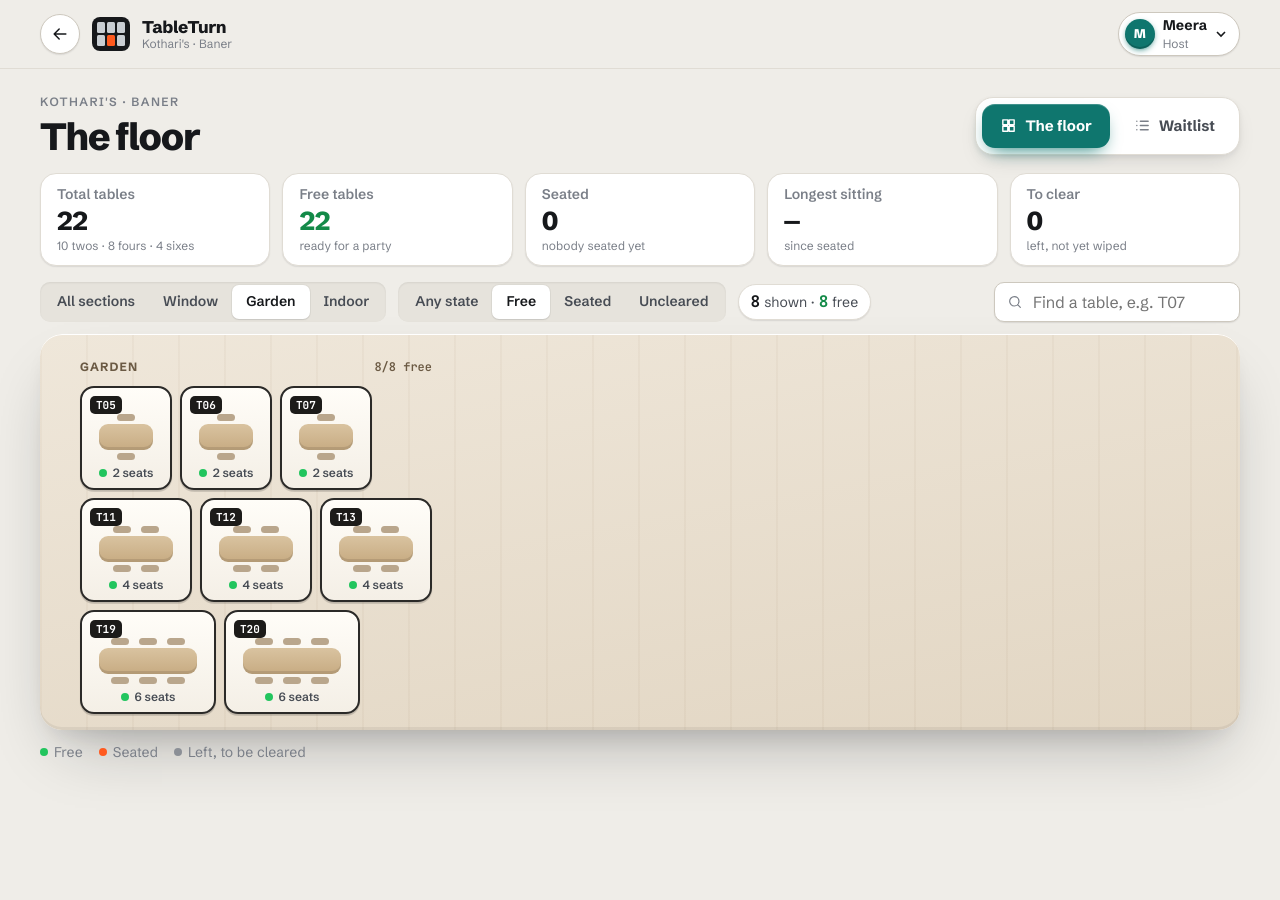
F-04 · Finding one table › "All sections" and "Any state" take their filter off the floor and the address, and the line counting what is shown goes
The image size is (1280, 900).
Click the button "All sections": (96, 302) [43,285,149,319]
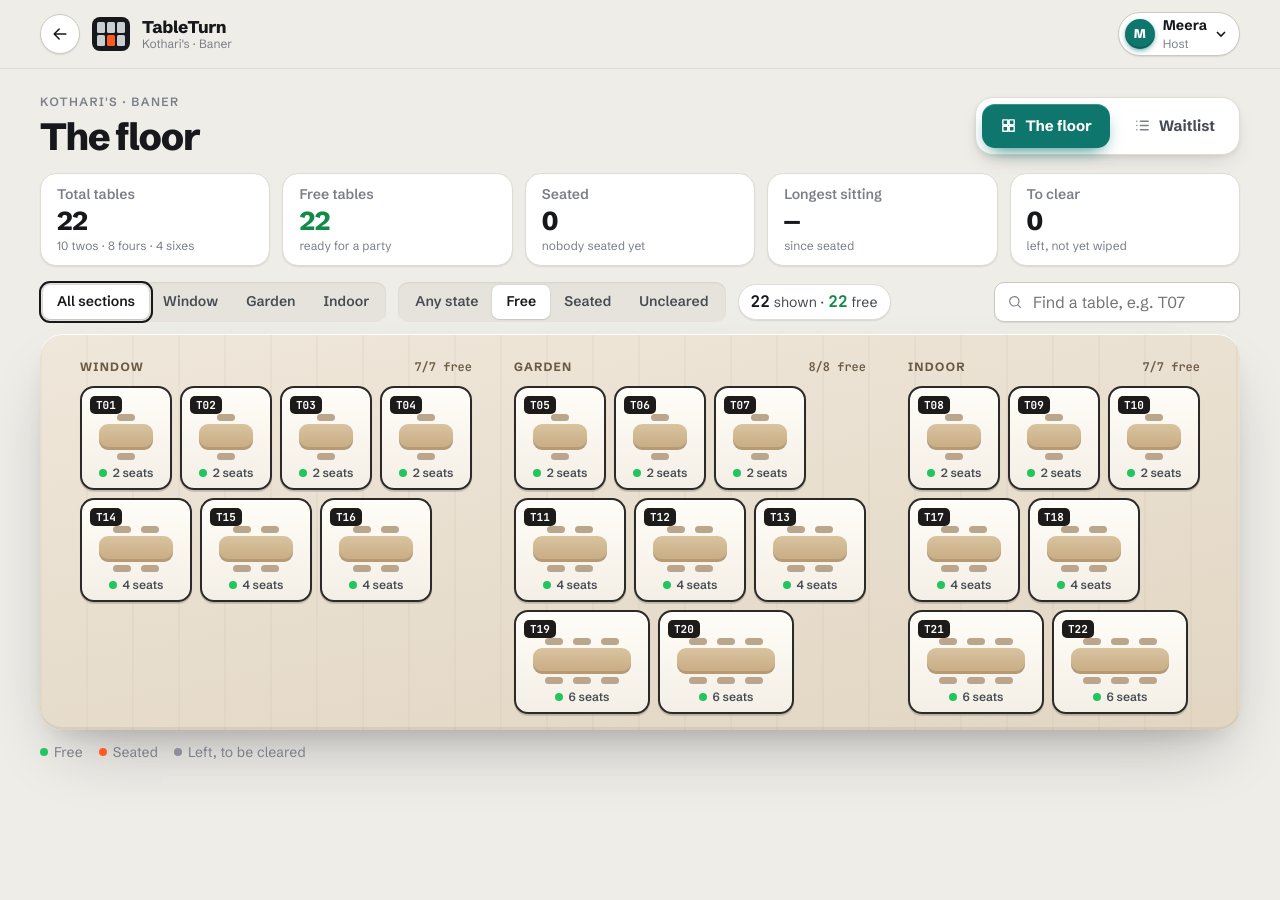
Click the button "Any state": (447, 302) [401,285,492,319]
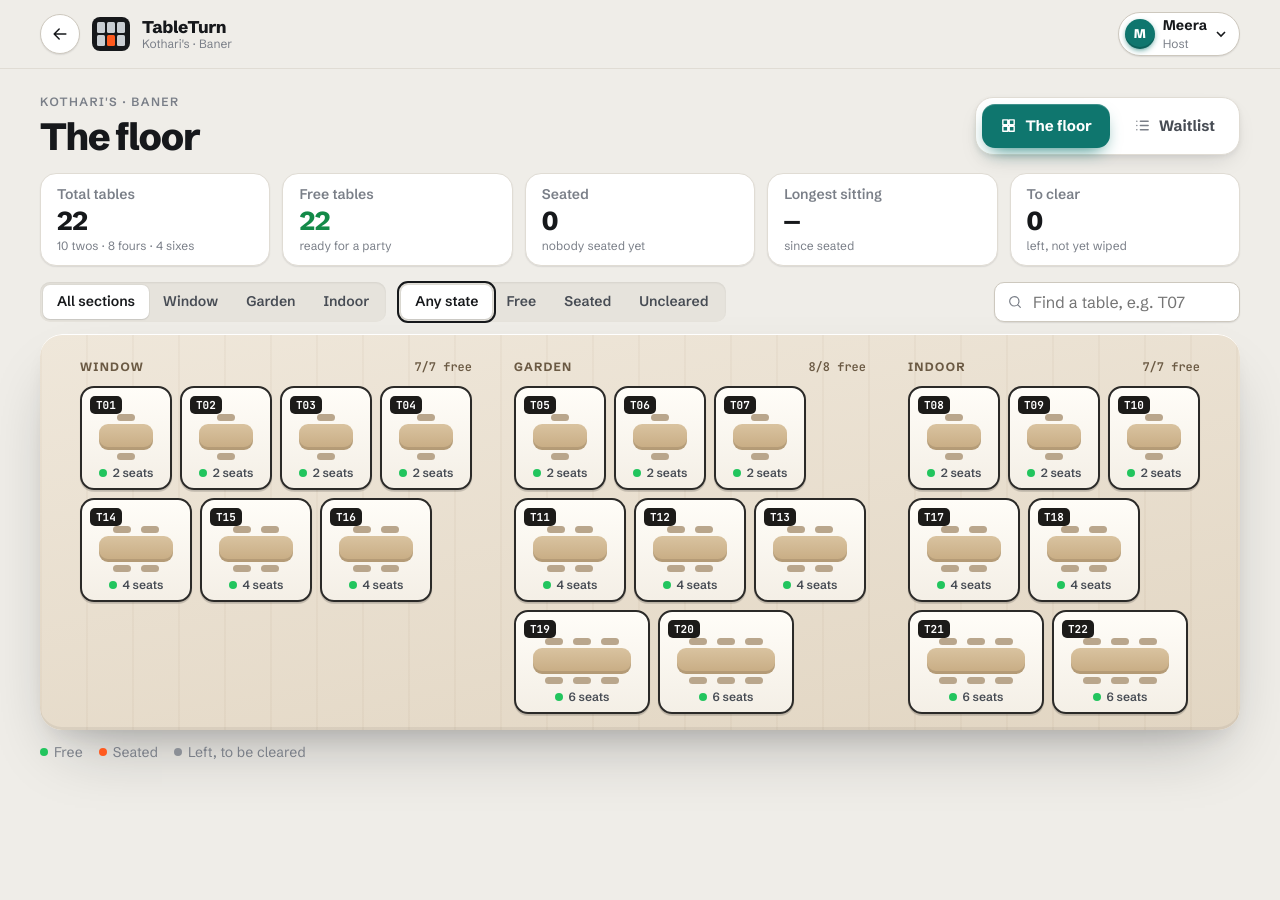
Expected: the button with aria-label "Table T01," is shown, [80,386,172,490]
Expected: the number of buttons "T01 2 seats" is 22
Expected: the text "shown ·" is gone
